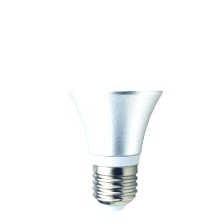light_bulb: (58, 8, 172, 213)
